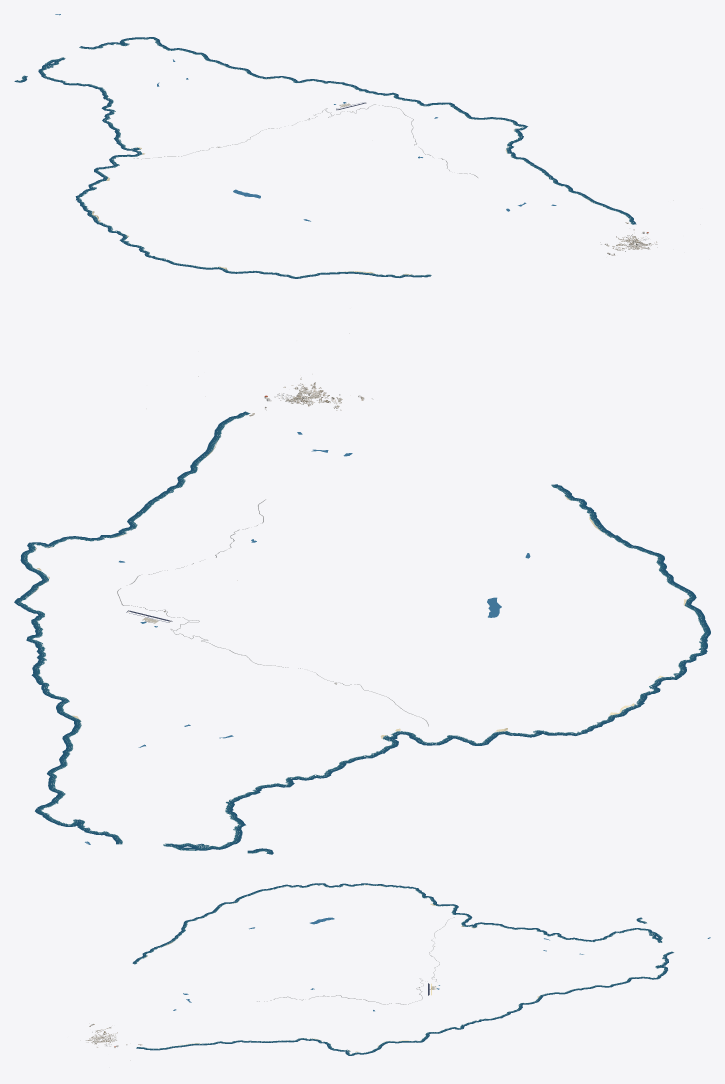
The model's file is land.glb.
3 views of the same model, one above another, from view 1: azimuth 30°, elevation 25°; view 2: azimuth 150°, elevation 25°; view 3: azimuth 270°, elevation 25° (orthographic). The views are drawn at different scales.
Parts seen in each view (by area): view 1: decal-shallows, decal-surf, buildings; view 2: decal-shallows, decal-surf; view 3: decal-shallows, decal-surf, buildings.
Part boxes in pixels (x1=…): decal-shallows: x1=14, y1=37, x2=636, y2=278; decal-surf: x1=18, y1=38, x2=633, y2=276; buildings: x1=218, y1=103, x2=673, y2=255; decal-shallows: x1=14, y1=411, x2=710, y2=854; decal-surf: x1=18, y1=414, x2=706, y2=853; decal-shallows: x1=132, y1=883, x2=673, y2=1055; decal-surf: x1=137, y1=884, x2=669, y2=1054; buildings: x1=85, y1=946, x2=436, y2=1060.
Size of the model in its own units: 46031 by 1653 by 72709.
